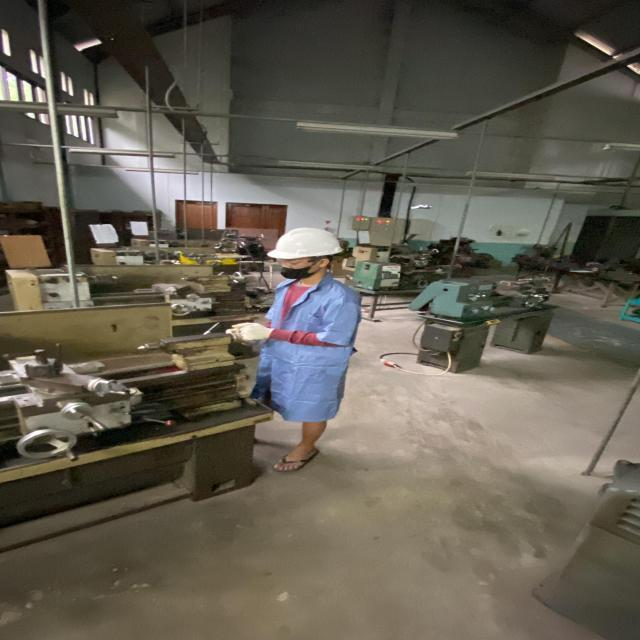glasses: (274, 258, 314, 268)
